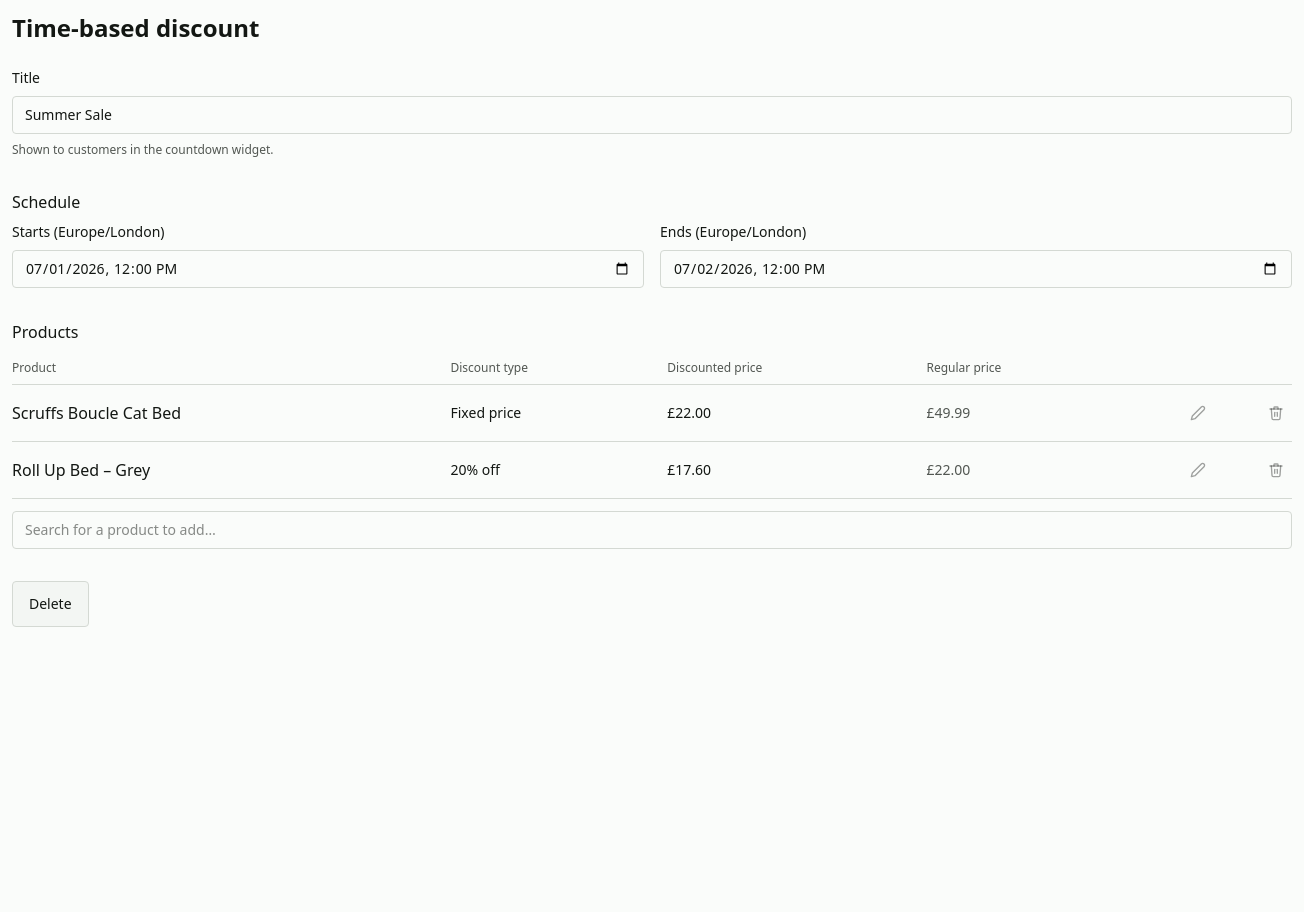
Test case: TimeDiscountEditor — title › shows a server error inline and no Saved pill
Type "!" into the field labelled "Title".
click(652, 115); type("!")  # box [12,96,1292,134]
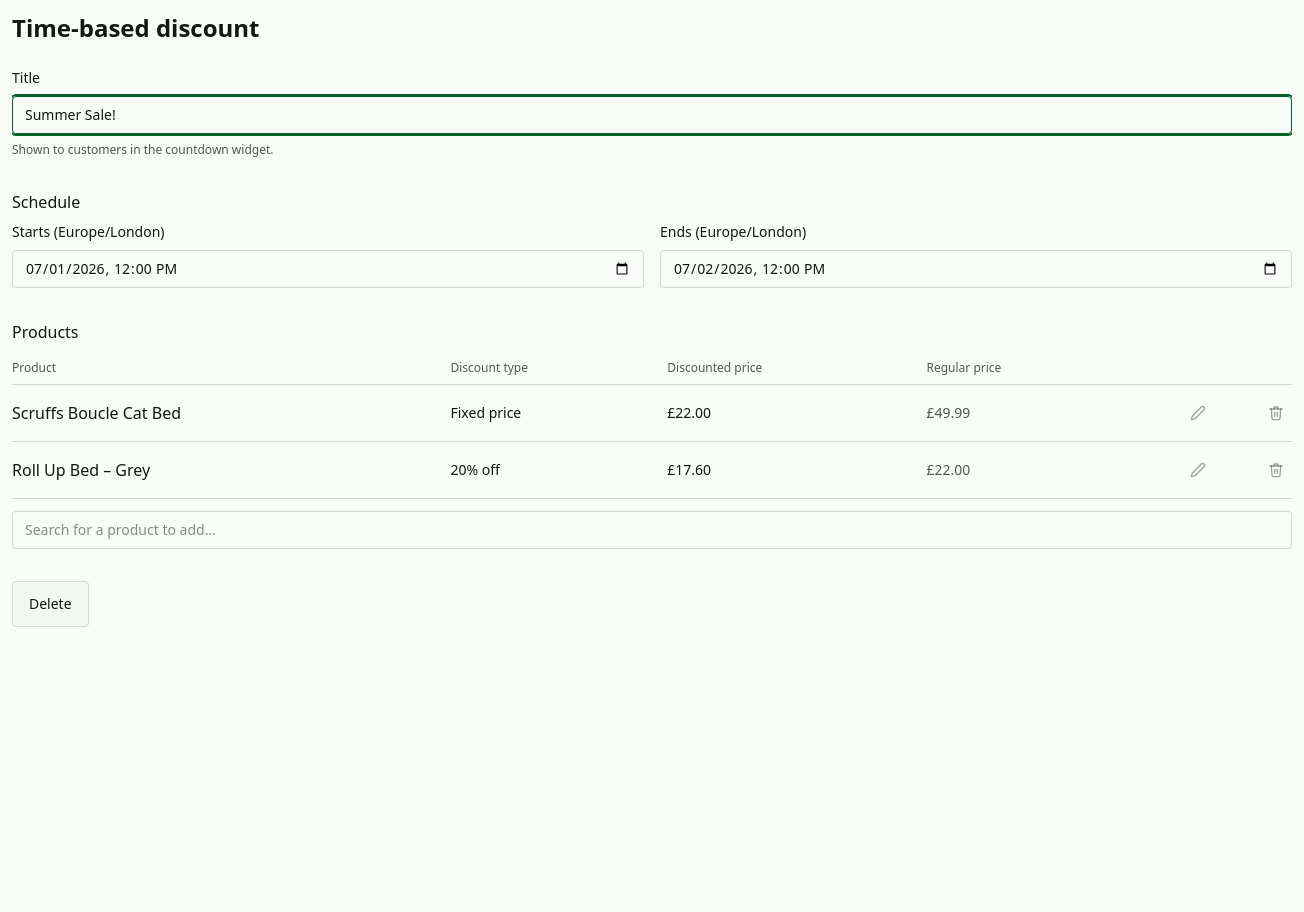
Press Tab
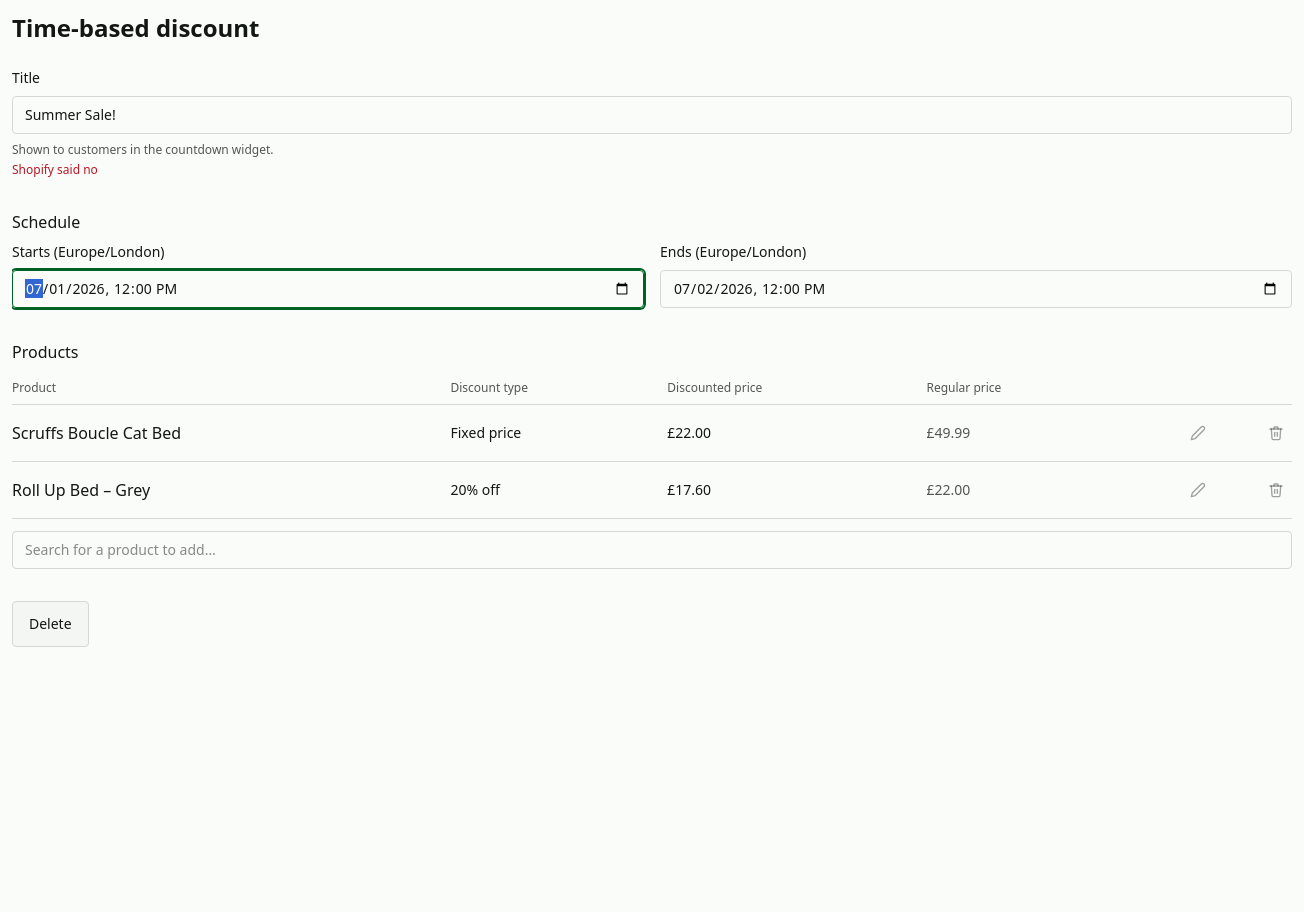
Check: the text "Shopify said no" is shown, box [12,161,98,178]
